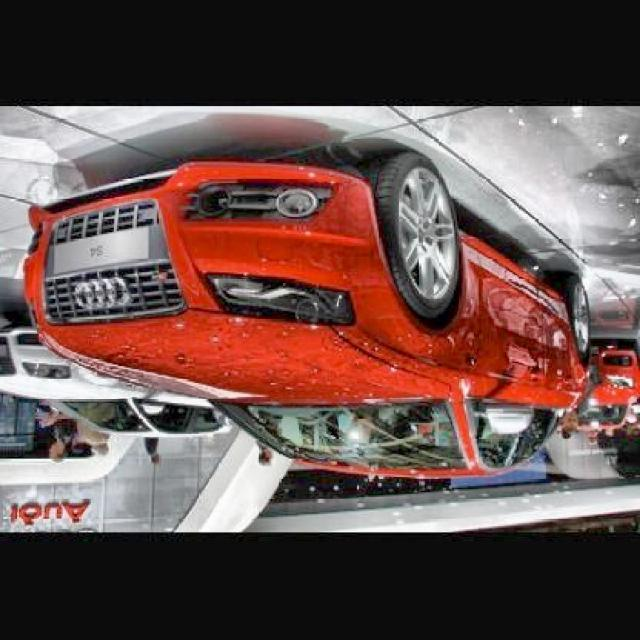red: (0, 164, 578, 460)
